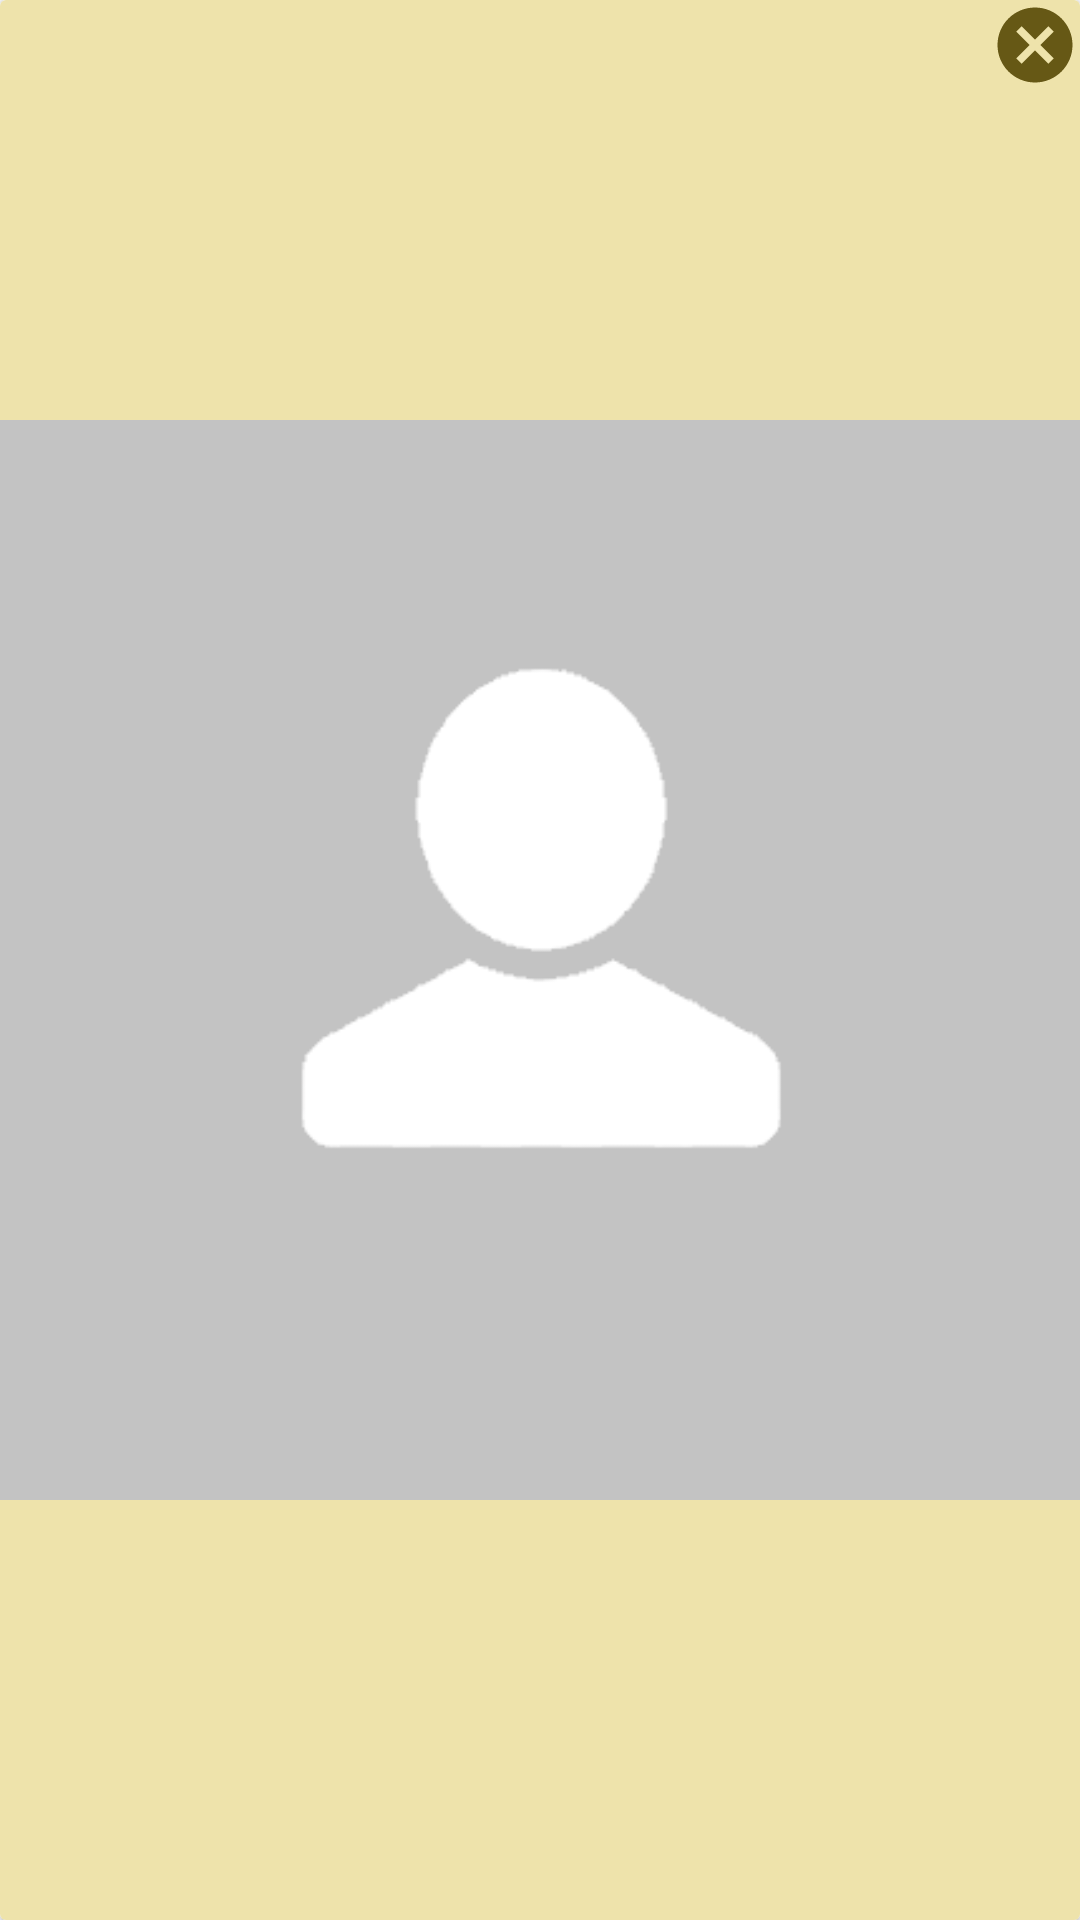

Where icons sit on this 1080 x 1920 app screen, as (x1, y1, x2, y2):
cancel: (997, 0, 1080, 83)
